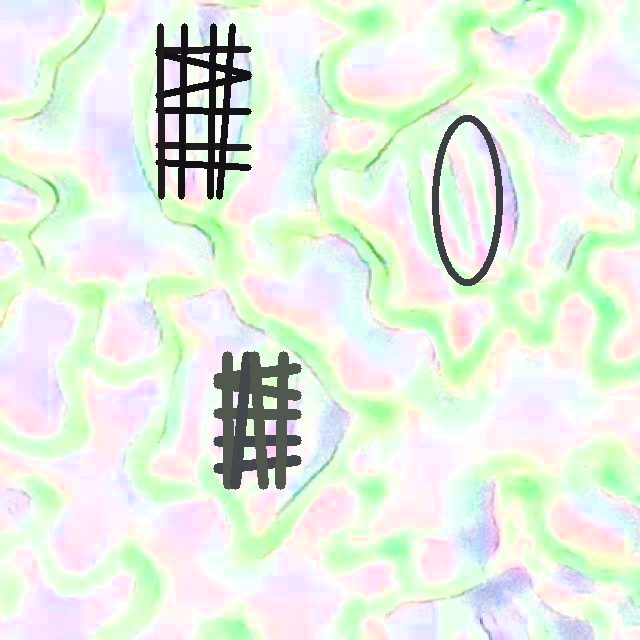close: (213, 352, 300, 489)
open: (155, 24, 250, 198), (430, 113, 503, 286)
